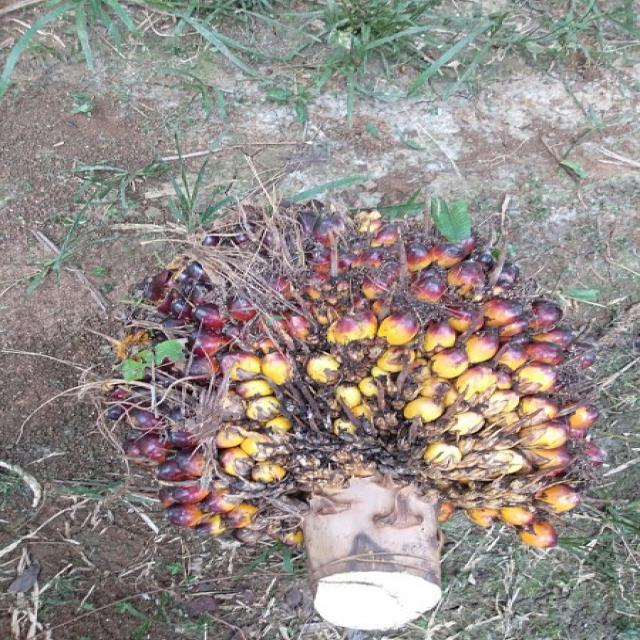fraksi 00: (131, 198, 591, 550)
